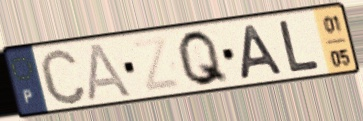A: (86, 40, 135, 103), (238, 22, 287, 82)
C: (37, 46, 89, 107)
L: (276, 18, 322, 74)
Q: (175, 28, 232, 89)
Z: (129, 33, 184, 94)
